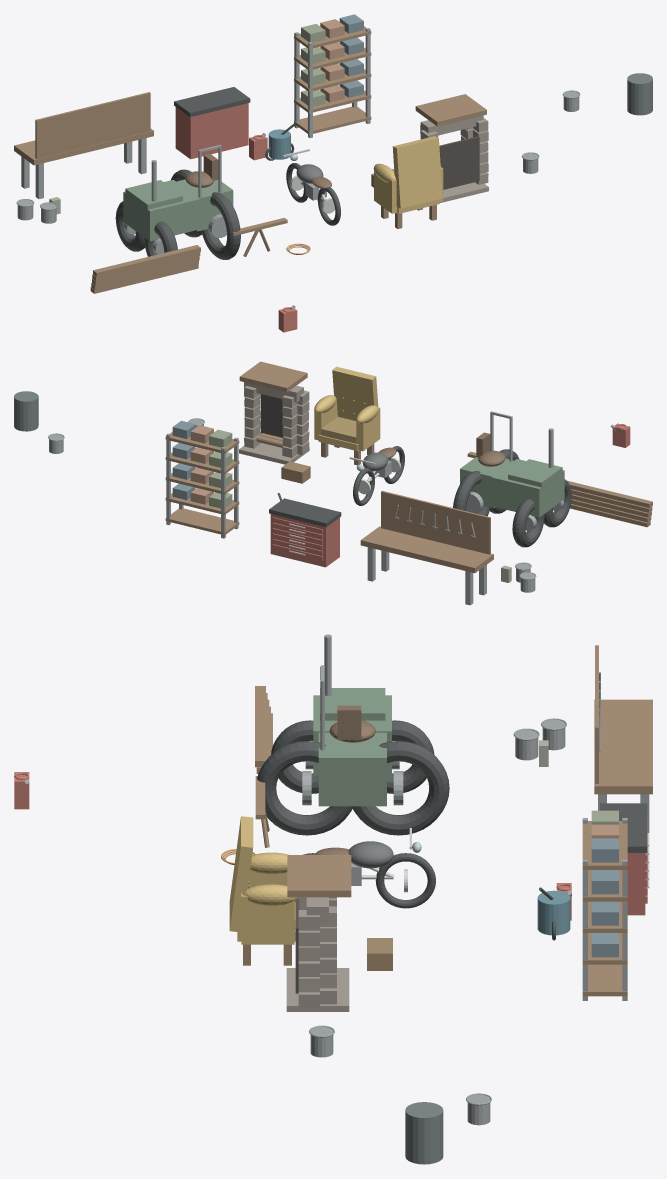
Rendered from papa-shop-production-props.glb.
The picture shows the model from 3 angles, top to bottom: view 1: azimuth 30°, elevation 25°; view 2: azimuth 150°, elevation 25°; view 3: azimuth 270°, elevation 25°; orthographic projection. The views are drawn at different scales.
Parts seen in each view (by area): view 1: bench_pegboard, toolchest_body, chair_high_back, tractor_engine, firebox, fire_mantel, tractor_tire3, toolchest_top, bench_top, shelf_0, garbage_can, tractor_hood (+18 smaller); view 2: bench_pegboard, bench_top, tractor_engine, chair_high_back, toolchest_body, fire_mantel, toolchest_top, shelf_0, tractor_hood, garbage_can, tractor_tire0, tractor_rearbody (+23 smaller); view 3: bench_top, tractor_rearbody, tractor_tire2, tractor_tire3, fire_mantel, garbage_can, chair_arm_1, chair_high_back, tractor_hood, tractor_tire1, shopvac_body, tractor_tire0 (+13 smaller).
Boxes of the visible parts, <box> form: bench_pegboard: <box>35,92,150,158</box>; toolchest_body: <box>175,103,248,159</box>; chair_high_back: <box>392,136,442,208</box>; tractor_engine: <box>123,179,199,241</box>; firebox: <box>439,136,479,189</box>; fire_mantel: <box>415,94,486,126</box>; tractor_tire3: <box>201,192,240,259</box>; toolchest_top: <box>174,87,250,117</box>; bench_top: <box>14,128,153,165</box>; shelf_0: <box>294,106,371,134</box>; garbage_can: <box>627,73,652,115</box>; tractor_hood: <box>125,180,182,209</box>; bench_pegboard: <box>381,490,490,554</box>; bench_top: <box>360,526,493,573</box>; tractor_engine: <box>491,459,564,517</box>; chair_high_back: <box>332,366,378,420</box>; toolchest_body: <box>270,514,339,567</box>; fire_mantel: <box>239,361,307,392</box>; toolchest_top: <box>269,498,341,527</box>; shelf_0: <box>165,508,239,535</box>; tractor_hood: <box>508,459,562,487</box>; garbage_can: <box>14,391,38,431</box>; tractor_tire0: <box>512,498,544,547</box>; tractor_rearbody: <box>460,457,513,508</box>; bench_top: <box>594,699,652,794</box>; tractor_rearbody: <box>318,732,386,806</box>; tractor_tire2: <box>352,741,449,835</box>; tractor_tire3: <box>257,741,352,835</box>; fire_mantel: <box>287,855,351,897</box>; garbage_can: <box>405,1102,443,1164</box>; chair_arm_1: <box>241,893,294,944</box>; chair_high_back: <box>229,816,253,932</box>; tractor_hood: <box>320,688,385,720</box>; tractor_tire1: <box>271,720,318,793</box>; shopvac_body: <box>537,890,570,935</box>; tractor_tire0: <box>387,720,434,793</box>.
Size of the model in its own units: 15.28 by 2.56 by 9.36.
